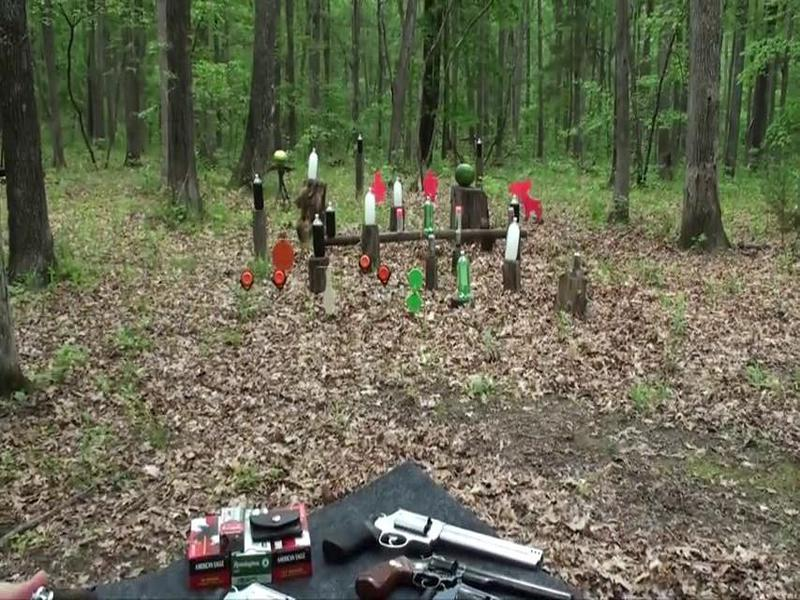Revolver: (327, 488, 539, 580)
